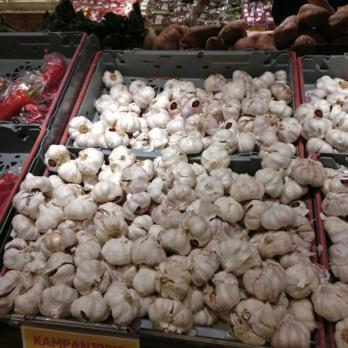Garlic: (15, 182, 348, 326), (62, 106, 348, 183), (102, 62, 348, 110)
